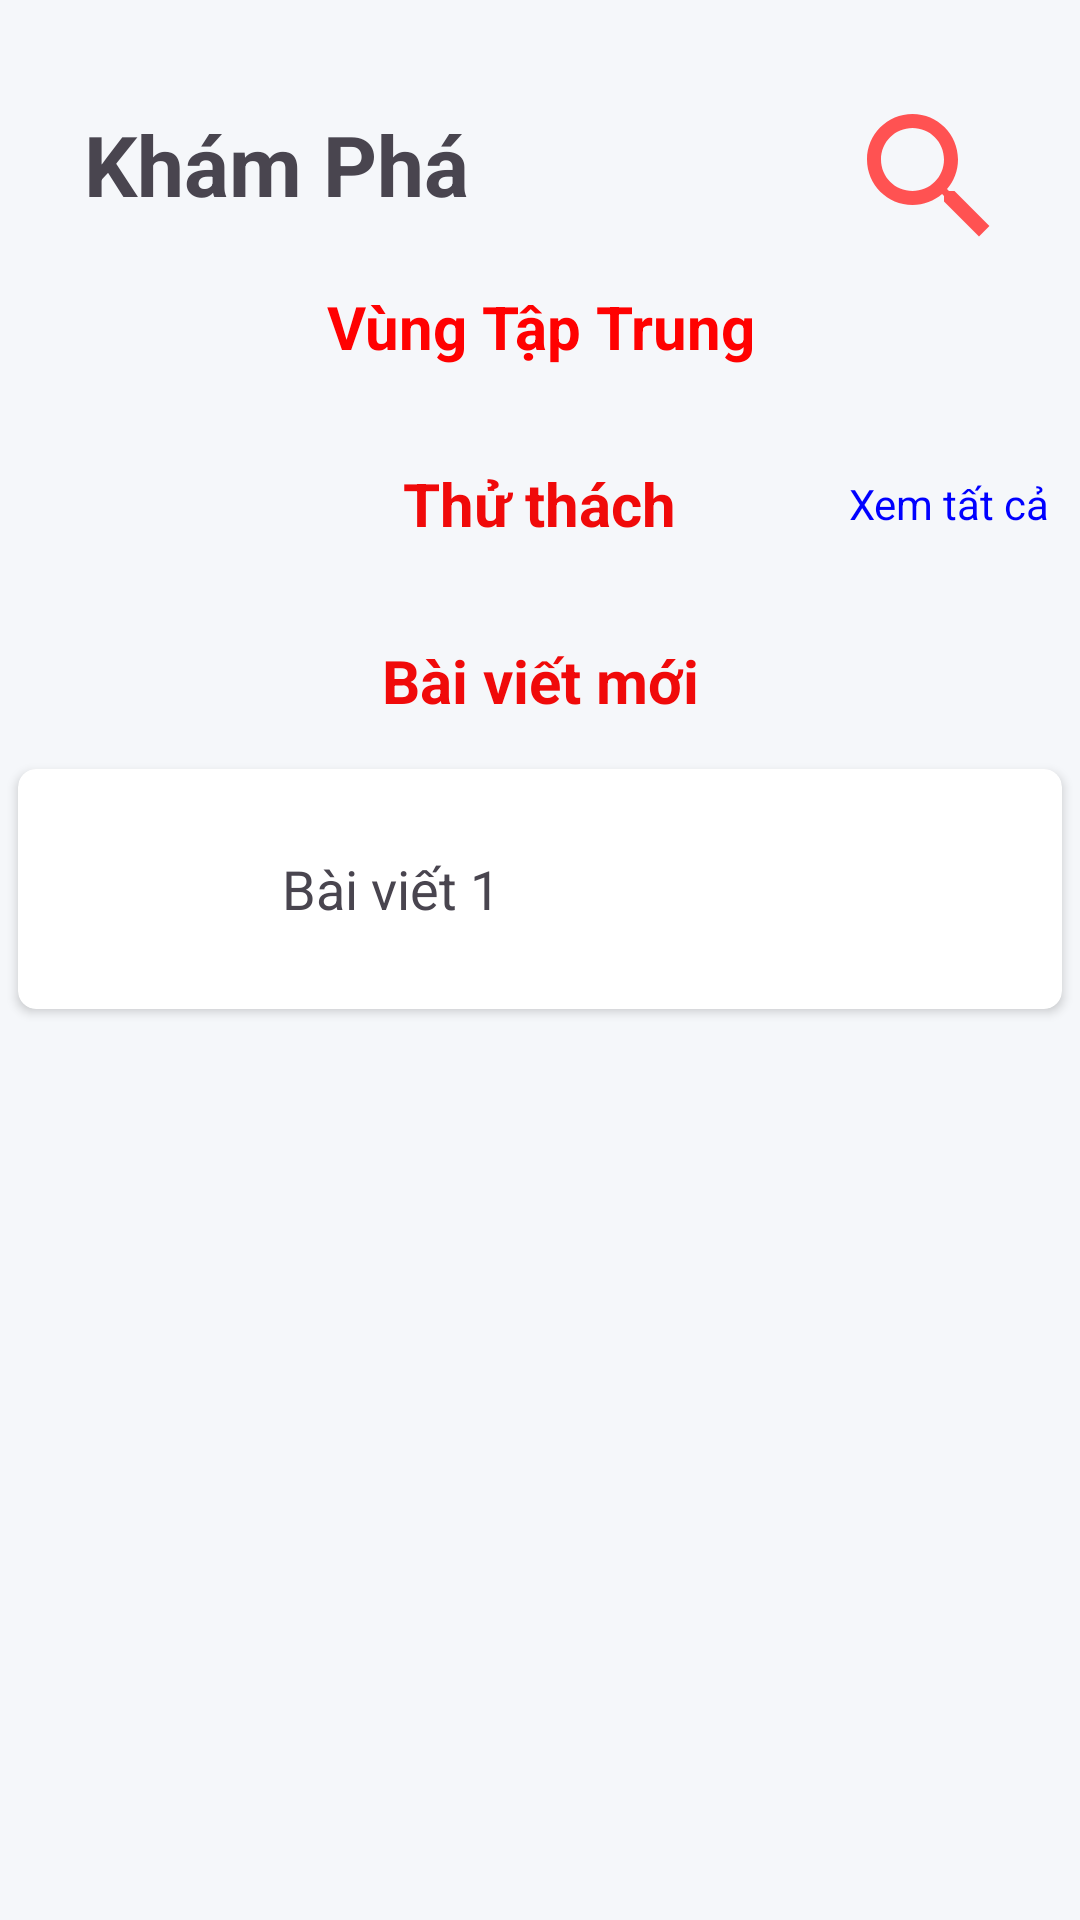

Icon bounding boxes for this 1080x1920 phone screenshot, format bbox(x1, y1, x2, y2):
search: bbox(867, 114, 989, 236)
